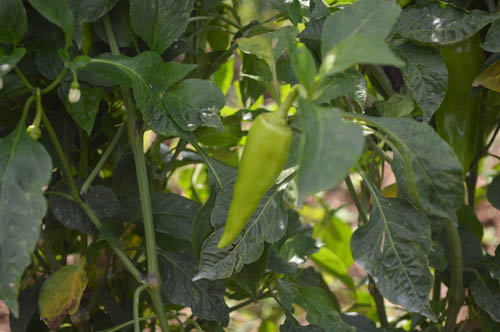ChiliPepper: (215, 114, 295, 266), (434, 37, 485, 176)
